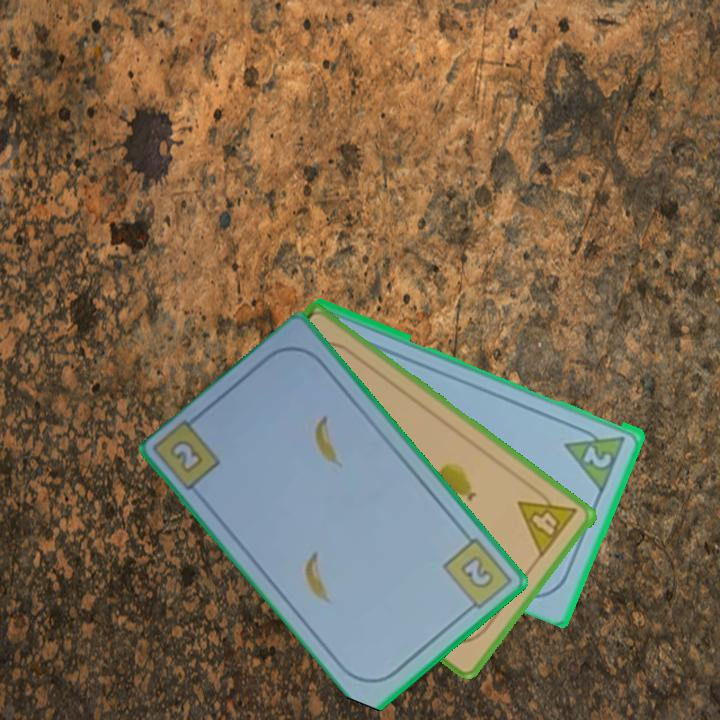2b: (439, 534, 515, 618), (166, 436, 207, 477)
2p: (580, 441, 615, 471)
4p: (515, 482, 581, 561)
